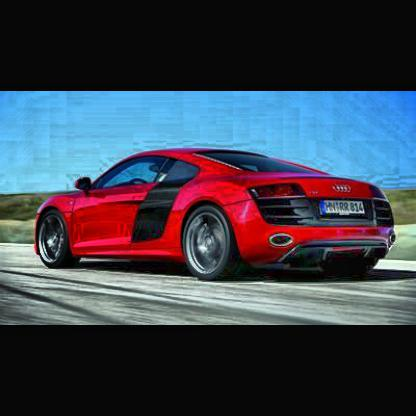Audi R8 Coupe 2012: (32, 146, 401, 289)
